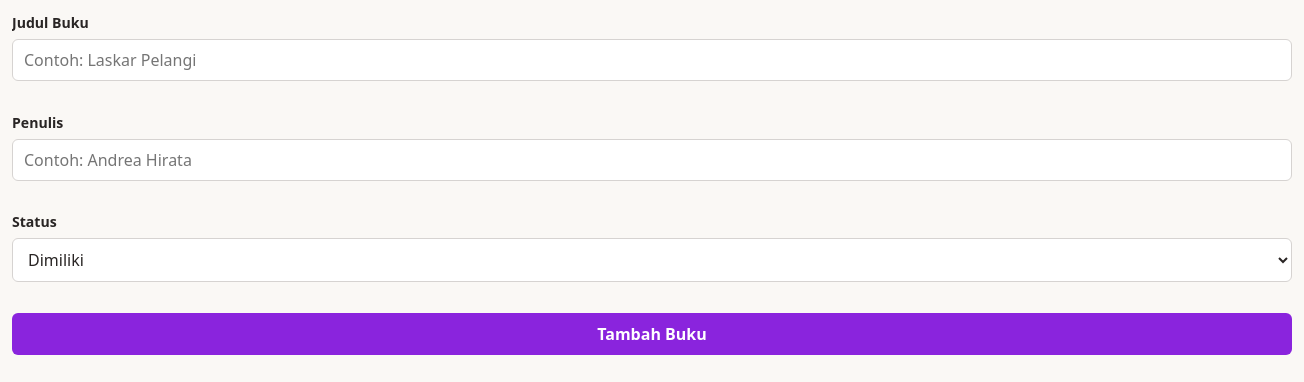
BookForm › menghapus pesan error begitu kolom diperbaiki
The width and height of the screenshot is (1304, 382).
Click the button "Tambah Buku" at (652, 334), box [12,313,1292,355]
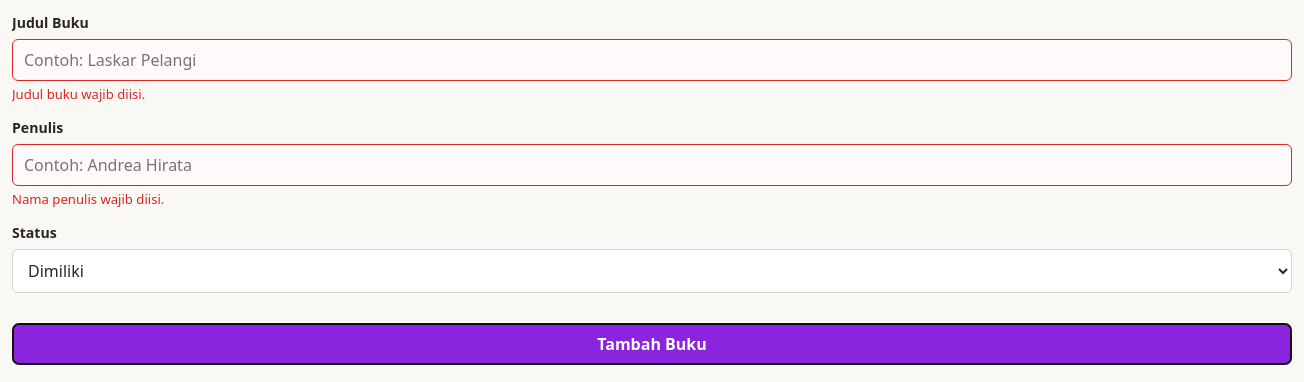
Expected: the text "Judul buku wajib diisi." is shown, [12,85,145,103]
Type "B" into the field labelled "Judul Buku" at (652, 60), box [12,39,1292,81]
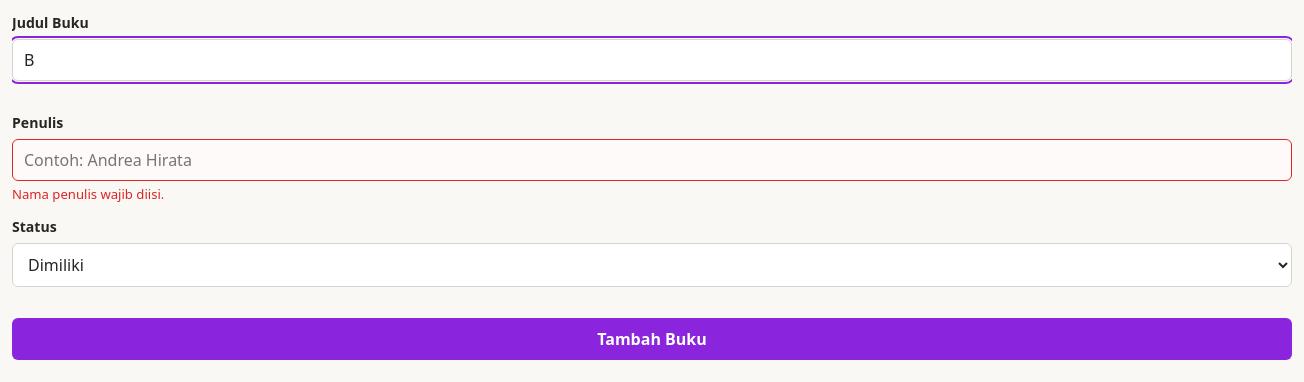
Expected: the text "Judul buku wajib diisi." is gone
